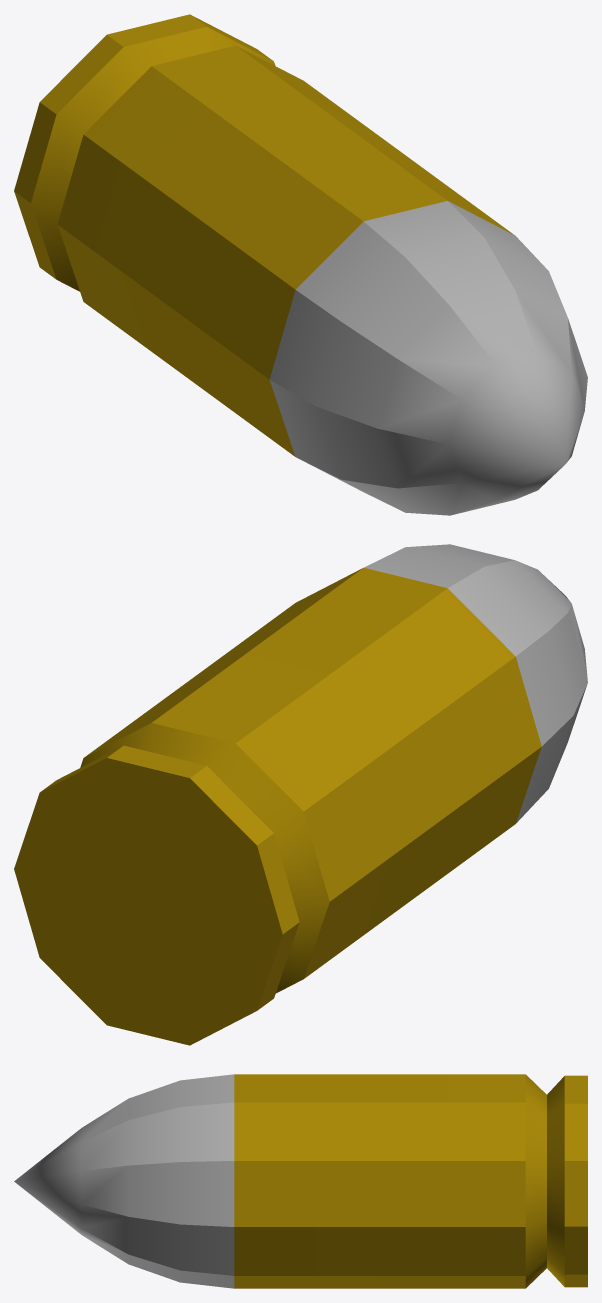
The model's file is Bullet.fbx.
The picture shows the model from 3 angles, top to bottom: view 1: azimuth 30°, elevation 25°; view 2: azimuth 150°, elevation 25°; view 3: azimuth 270°, elevation 25°; orthographic projection. The views are drawn at different scales.
Visible parts, largest first — view 1: pCylinder3; view 2: pCylinder3; view 3: pCylinder3.
Boxes of the visible parts, box(x1,y1,x2,y2) form: pCylinder3: box(14, 14, 587, 515); pCylinder3: box(14, 544, 587, 1045); pCylinder3: box(14, 1074, 587, 1288).
Size of the model in its own units: 2 by 1.9 by 5.31.
